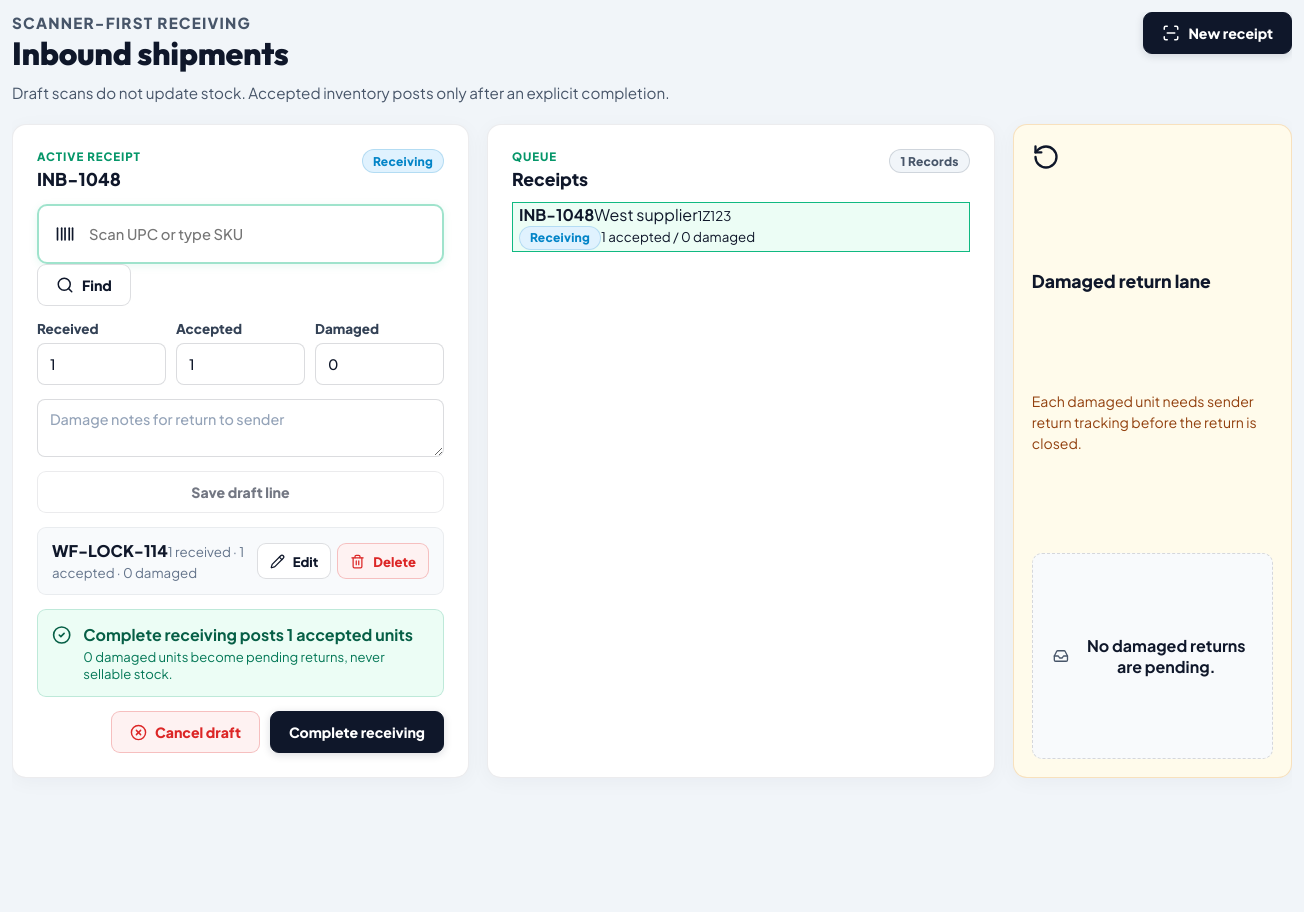
Test case: ReceivingPage › loads more product search matches with the returned cursor
Type "lock" into the field named "Scan product UPC". click: point(257, 234)
box: [87, 224, 426, 244]
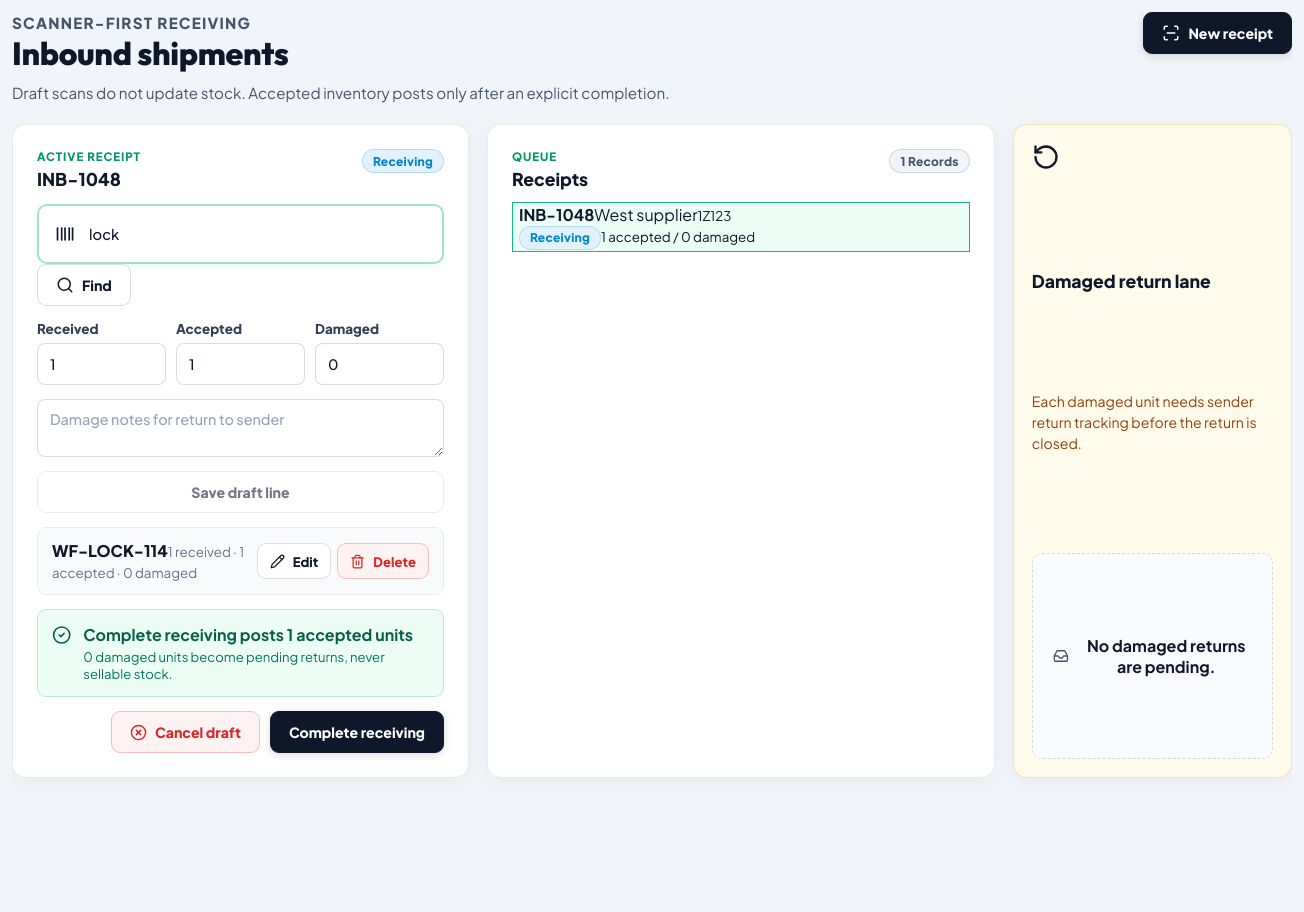
Click the button "Find". click: point(84, 285)
box: [37, 264, 131, 306]
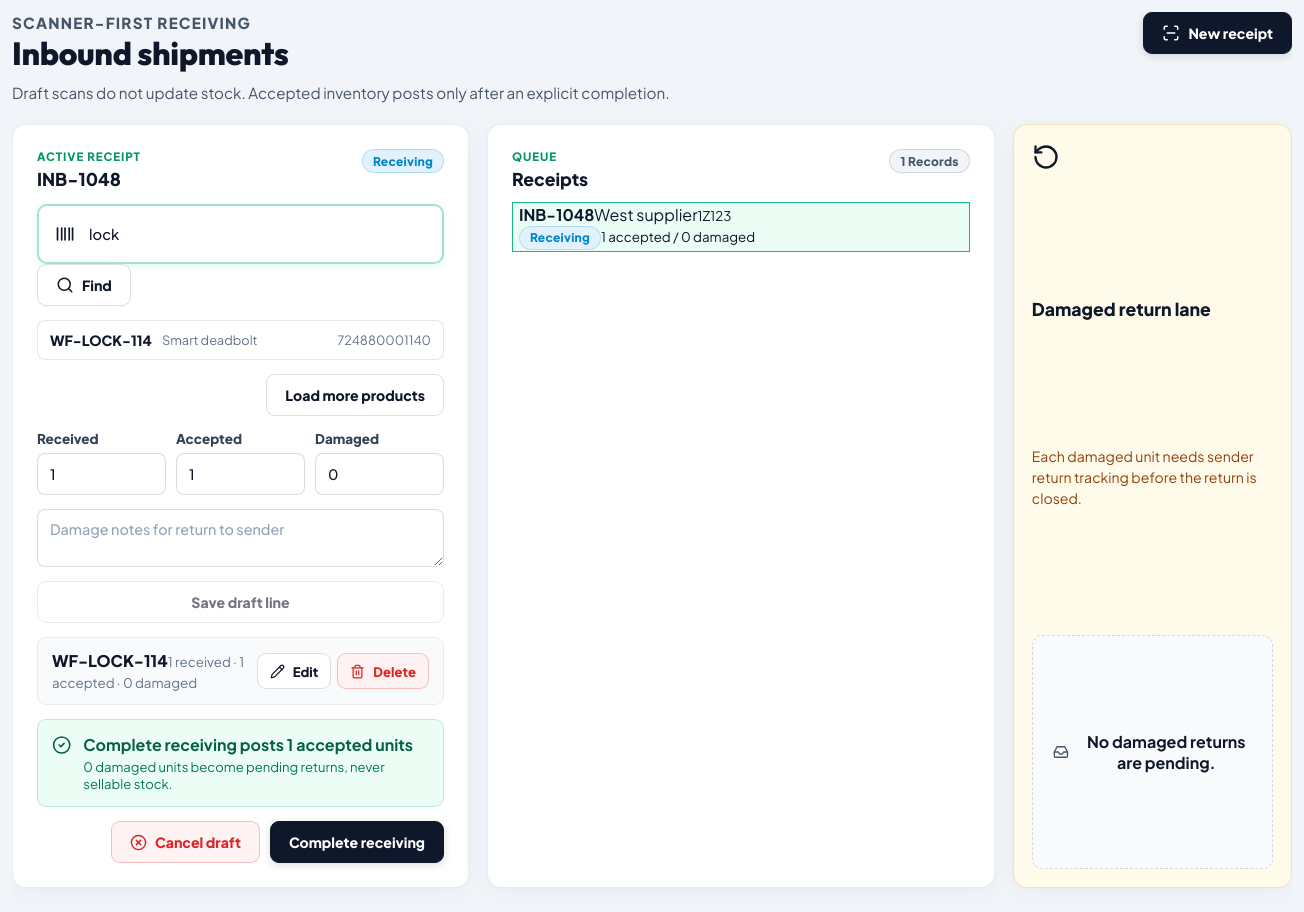
Check: the text "Smart deadbolt" is shown, box [162, 332, 258, 348]
Click the button "Load more products". click: point(355, 395)
box: [266, 374, 444, 416]
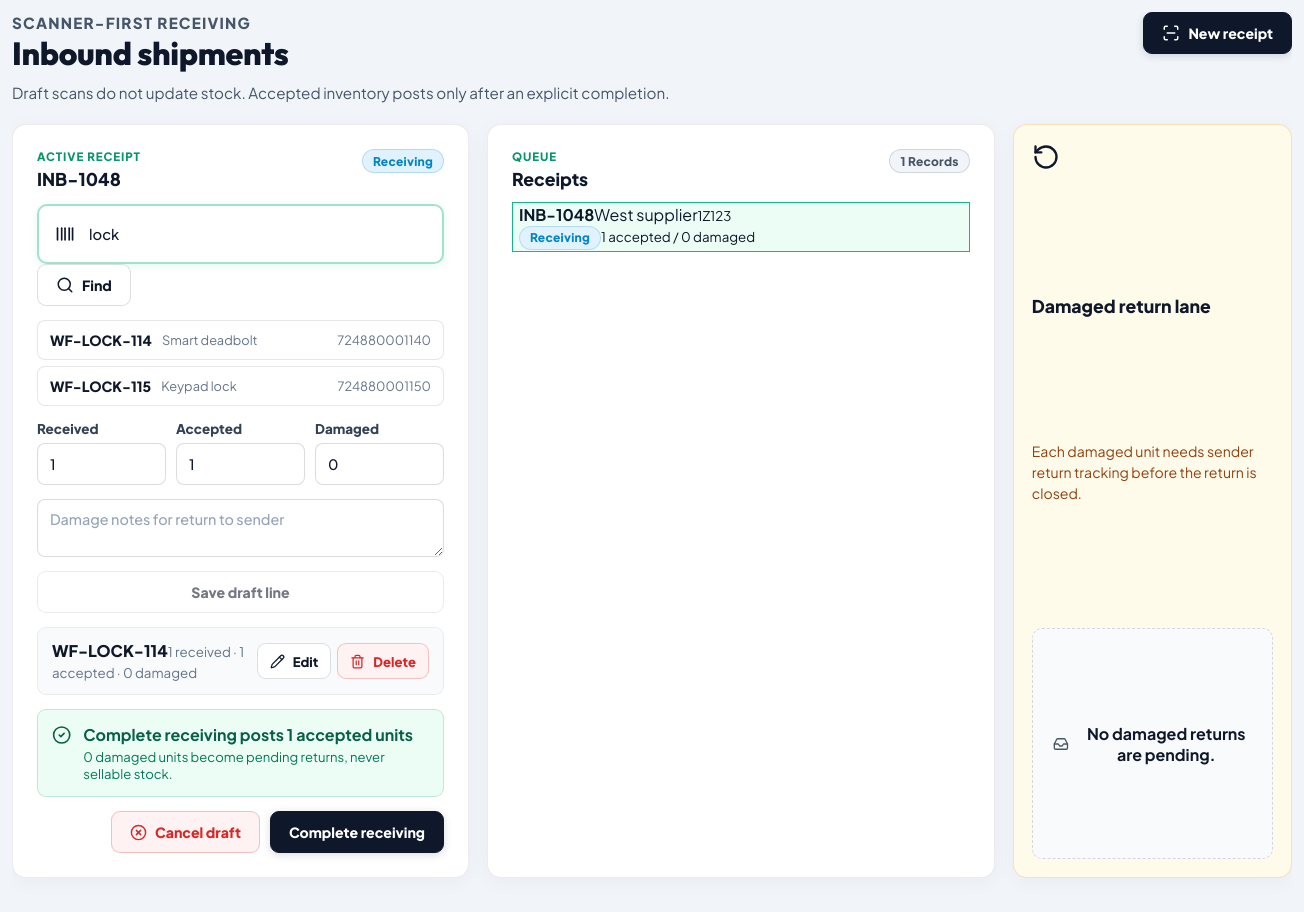
Check: the text "Smart deadbolt" is shown, box [162, 332, 258, 348]
Check: the text "Keypad lock" is shown, box [161, 378, 237, 394]
